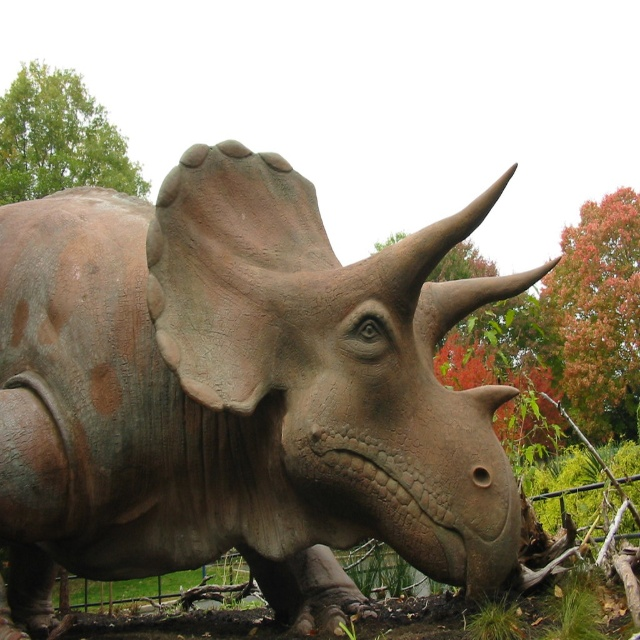Rhinoceros: (0, 138, 565, 639)
